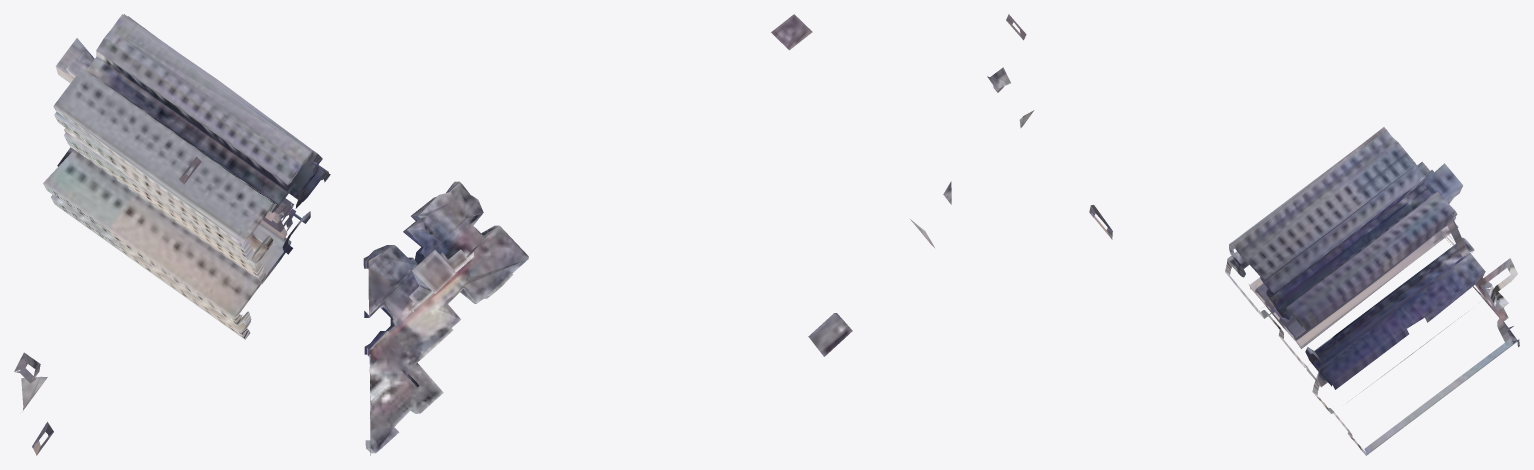
3 views of the same model, side by side, from view 1: azimuth 30°, elevation 25°; view 2: azimuth 150°, elevation 25°; view 3: azimuth 270°, elevation 25° (orthographic). The views are drawn at different scales.
Bounding box in the file's own units: 118 × 92.86 × 134.
Materials: 1 (1 with a texture image).
